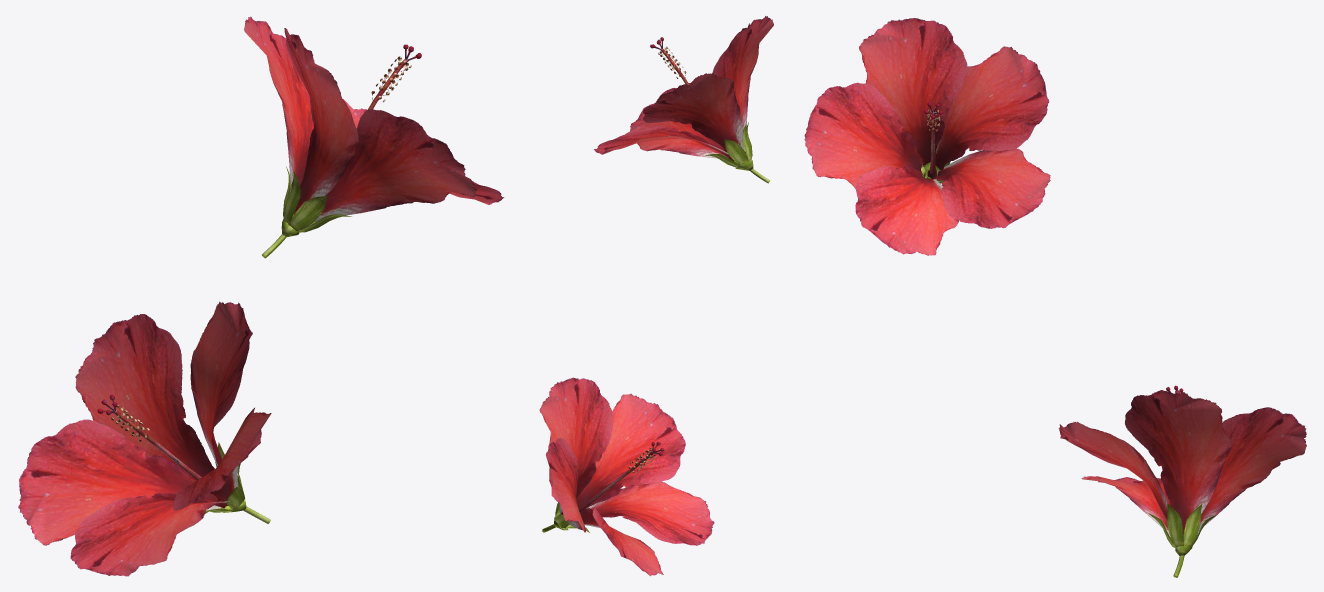
Rendered from test_hibiscus.dae.
3 views of the same model, side by side, from view 1: azimuth 30°, elevation 25°; view 2: azimuth 150°, elevation 25°; view 3: azimuth 270°, elevation 25° (orthographic). The views are drawn at different scales.
Visible parts, largest first — view 1: Pedal1 (×8), leaf707; view 2: Pedal1 (×9), leaf707, Pistol_stem; view 3: Pedal1 (×9).
Part boxes in pixels (left/top/right/bottom): Pedal1 (×8): left=18, top=16, right=476, bottom=576; leaf707: left=288, top=196, right=327, bottom=230; Pedal1 (×9): left=539, top=16, right=773, bottom=576; leaf707: left=724, top=139, right=748, bottom=164; Pistol_stem: left=578, top=451, right=653, bottom=512; Pedal1 (×9): left=804, top=18, right=1306, bottom=536.
Size of the model in its own units: 7.18 by 14.86 by 16.57.
5 materials, 3 textured.
